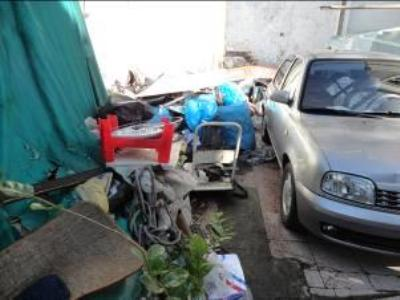plastic_bag: (213, 82, 257, 152), (182, 95, 220, 133)
